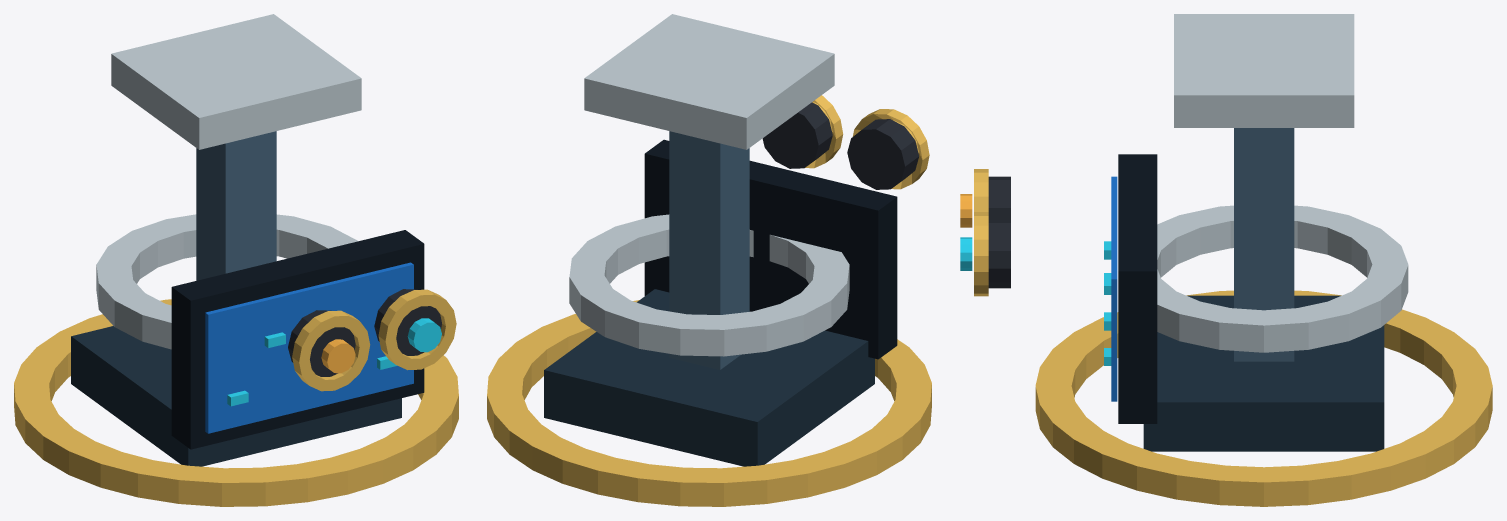
Rendered from 23_L82_ShieldGasketCompressionTester.fbx.
The picture shows the model from 3 angles, left to right: view 1: azimuth 30°, elevation 25°; view 2: azimuth 150°, elevation 25°; view 3: azimuth 270°, elevation 25°; orthographic projection. The views are drawn at different scales.
Parts seen in each view (by area): view 1: ShieldGasketCompressionTester, ShieldGasketCompressionTester_Part_0011; view 2: ShieldGasketCompressionTester, ShieldGasketCompressionTester_Part_0011; view 3: ShieldGasketCompressionTester, ShieldGasketCompressionTester_Part_0011.
Boxes of the visible parts, <box> form: ShieldGasketCompressionTester: <box>71,14,456,466</box>; ShieldGasketCompressionTester_Part_0011: <box>14,299,458,506</box>; ShieldGasketCompressionTester: <box>544,14,929,466</box>; ShieldGasketCompressionTester_Part_0011: <box>487,300,931,506</box>; ShieldGasketCompressionTester: <box>960,14,1408,451</box>; ShieldGasketCompressionTester_Part_0011: <box>1035,290,1492,506</box>.
Bounding box in the file's own units: 76 × 65.25 × 88.5.
